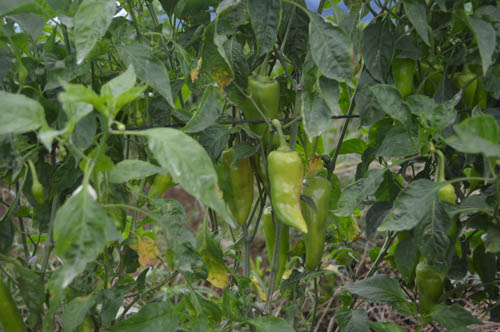ChiliPepper: (268, 151, 308, 233), (299, 177, 330, 270), (244, 77, 285, 141), (433, 184, 468, 255), (225, 147, 255, 222), (383, 55, 415, 93), (412, 260, 442, 300), (417, 59, 445, 95), (451, 72, 479, 104)
